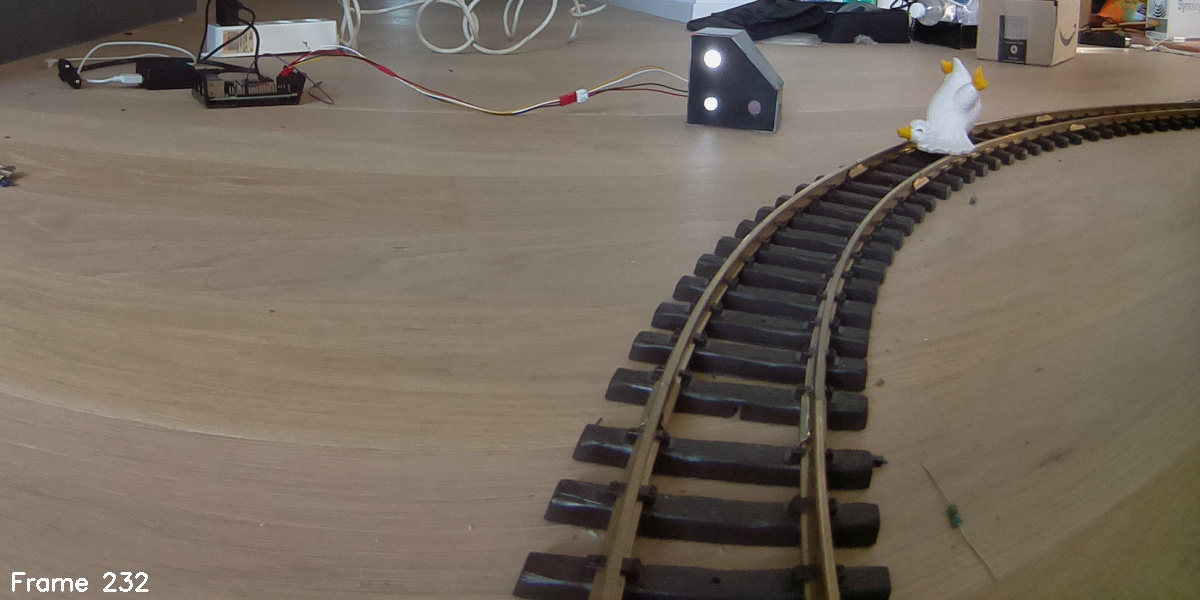Ente: (893, 56, 992, 161)
Fahrt: (688, 26, 784, 135)
